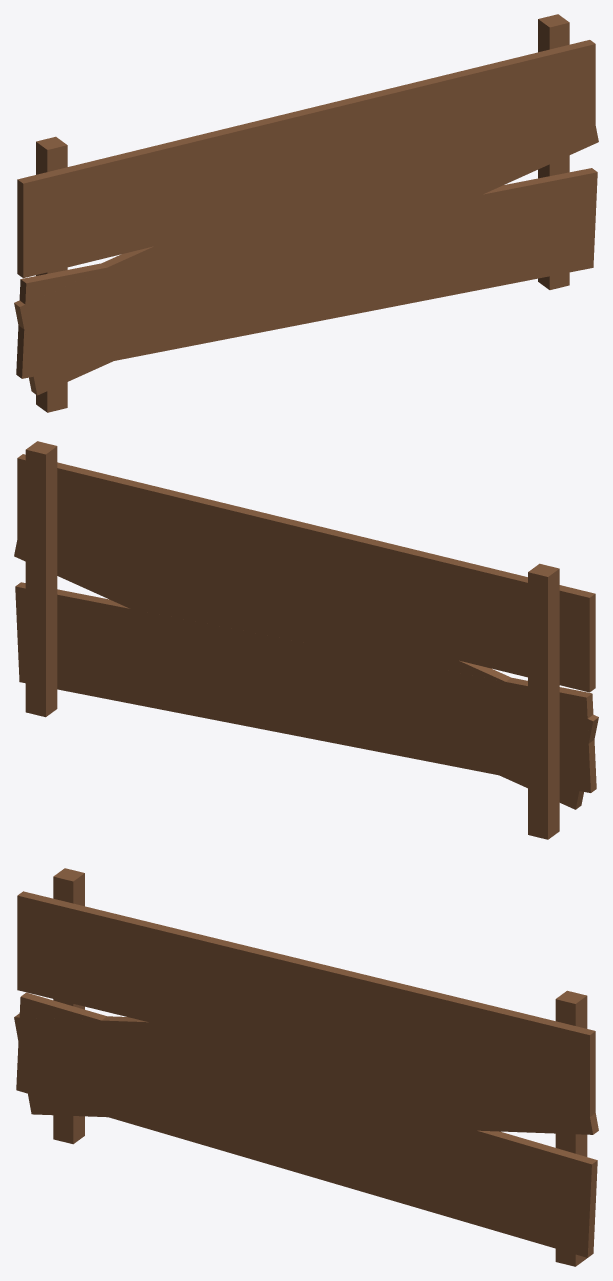
The model's file is railing.gltf.
The picture shows the model from 3 angles, top to bottom: view 1: azimuth 30°, elevation 25°; view 2: azimuth 150°, elevation 25°; view 3: azimuth 330°, elevation 25°; orthographic projection.
Parts seen in each view (by area): view 1: Railing, Railing.002, Railing.001, Railing Post; view 2: Railing, Railing.001, Railing.002, Railing Post; view 3: Railing.002, Railing, Railing.001, Railing Post.
Part boxes in pixels (x1,y1,x2,y2): Railing: (17, 40, 595, 278); Railing.002: (14, 54, 598, 395); Railing.001: (16, 168, 597, 378); Railing Post: (36, 14, 569, 412); Railing: (17, 454, 595, 692); Railing.001: (15, 582, 596, 792); Railing.002: (14, 480, 598, 809); Railing Post: (25, 441, 559, 839); Railing.002: (14, 1013, 598, 1134); Railing: (17, 891, 595, 1127); Railing.001: (16, 992, 597, 1257); Railing Post: (53, 868, 587, 1266).
Bounding box in the file's own units: 5.77 × 2.5 × 0.3.
